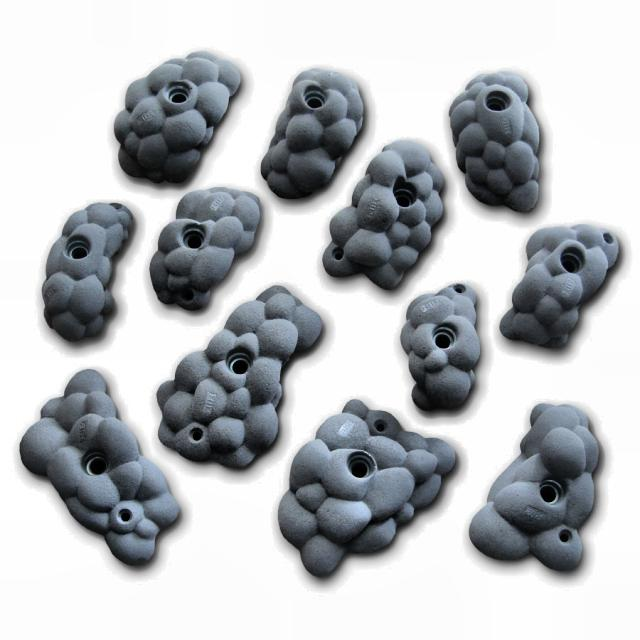Hold: (274, 400, 459, 584), (15, 370, 179, 564), (154, 290, 316, 464), (470, 403, 596, 573), (317, 139, 443, 284), (122, 55, 249, 182), (446, 65, 542, 210), (153, 181, 256, 302), (512, 222, 606, 354), (268, 67, 358, 200), (42, 205, 130, 341), (401, 280, 486, 410)
